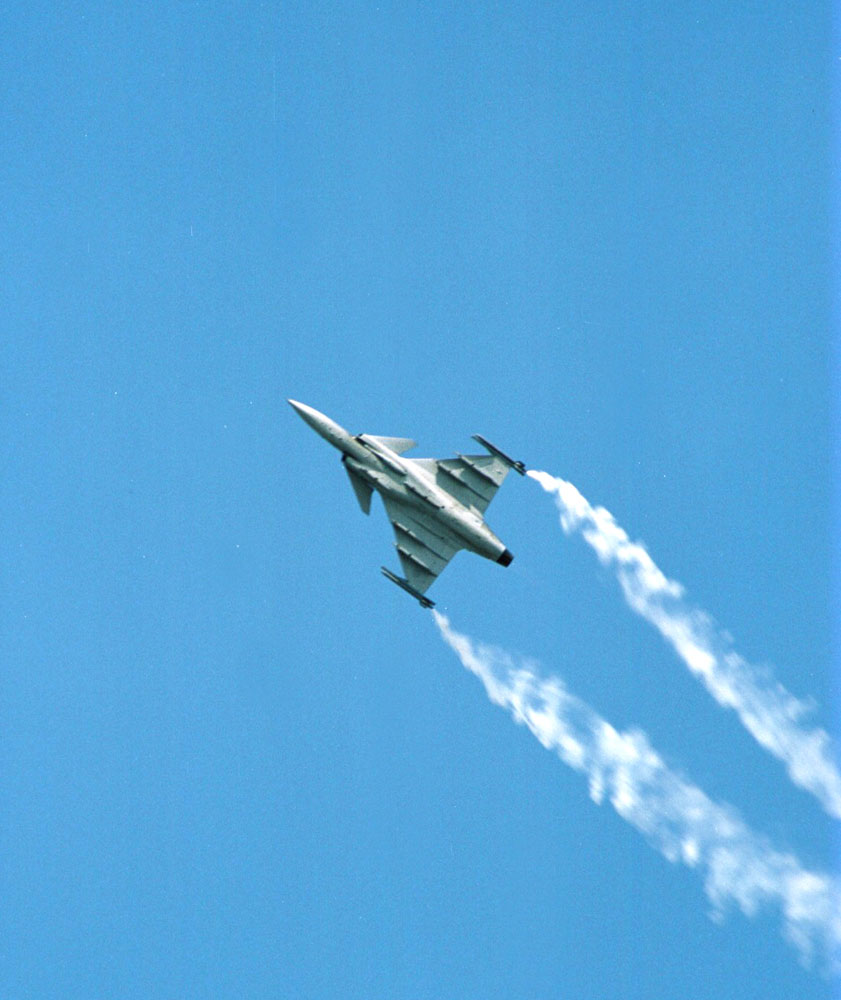JAS39: (284, 396, 528, 609)
